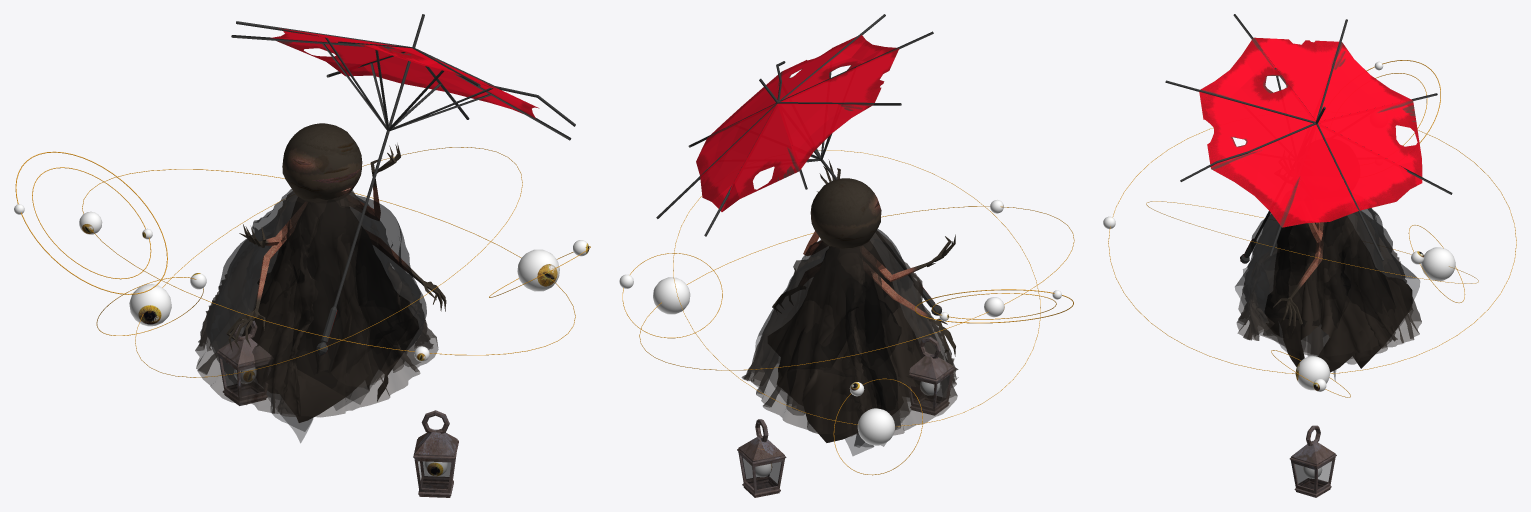
The model's file is 1772751217527_eye (1).glb.
3 renders of one model, left to right at view 1: azimuth 30°, elevation 25°; view 2: azimuth 150°, elevation 25°; view 3: azimuth 270°, elevation 25°, orthographic. The views are drawn at different scales.
Visible parts, largest first — view 1: Grid.001, Grid.004, Grid.002, Grid.003, Grid, Circle.002, Cylinder.006, Sphere, Sphere.006, Cube.006, Cube, Cube.005 (+4 smaller); view 2: Grid.001, Circle.002, Grid.003, Grid, Grid.002, Grid.004, Sphere, Sphere.006, Cylinder.006, Cube.006, Cube.005, Cube (+3 smaller); view 3: Circle.002, Grid.001, Grid.003, Grid, Grid.002, Grid.004, Sphere.006, Cylinder.006, Cube.005, Cube.006, BezierCircle, BezierCircle.003.
Boxes of the visible parts, <box> form: Grid.001: <box>195,193,438,417</box>; Grid.004: <box>206,199,400,442</box>; Grid.002: <box>249,190,403,389</box>; Grid.003: <box>242,189,426,410</box>; Grid: <box>241,197,391,422</box>; Circle.002: <box>269,28,539,118</box>; Cylinder.006: <box>231,14,575,355</box>; Sphere: <box>282,123,362,203</box>; Sphere.006: <box>14,204,589,476</box>; Cube.006: <box>226,143,446,351</box>; Cube: <box>216,335,273,405</box>; Cube.005: <box>413,429,458,497</box>; Grid.001: <box>741,235,958,436</box>; Circle.002: <box>696,34,899,211</box>; Grid.003: <box>755,238,922,404</box>; Grid: <box>777,242,919,442</box>; Grid.002: <box>781,230,927,434</box>; Grid.004: <box>794,229,936,455</box>; Sphere: <box>810,178,881,249</box>; Sphere.006: <box>619,200,1061,477</box>; Cylinder.006: <box>656,14,941,315</box>; Cube.006: <box>772,159,955,356</box>; Cube.005: <box>737,436,786,497</box>; Cube: <box>907,353,955,415</box>; Circle.002: <box>1199,37,1422,227</box>; Grid.001: <box>1236,210,1421,357</box>; Grid.003: <box>1243,208,1419,355</box>; Grid: <box>1281,217,1412,372</box>; Grid.002: <box>1238,212,1387,364</box>; Grid.004: <box>1235,211,1392,380</box>; Sphere.006: <box>1103,61,1455,478</box>; Cylinder.006: <box>1165,14,1452,263</box>; Cube.005: <box>1289,441,1336,497</box>; Cube.006: <box>1273,222,1323,334</box>; BezierCircle: <box>1108,127,1516,373</box>; BezierCircle.003: <box>1146,201,1478,283</box>.
Size of the model in its own units: 2.38 by 2.2 by 1.97.
Materials: 19 (6 with a texture image).
